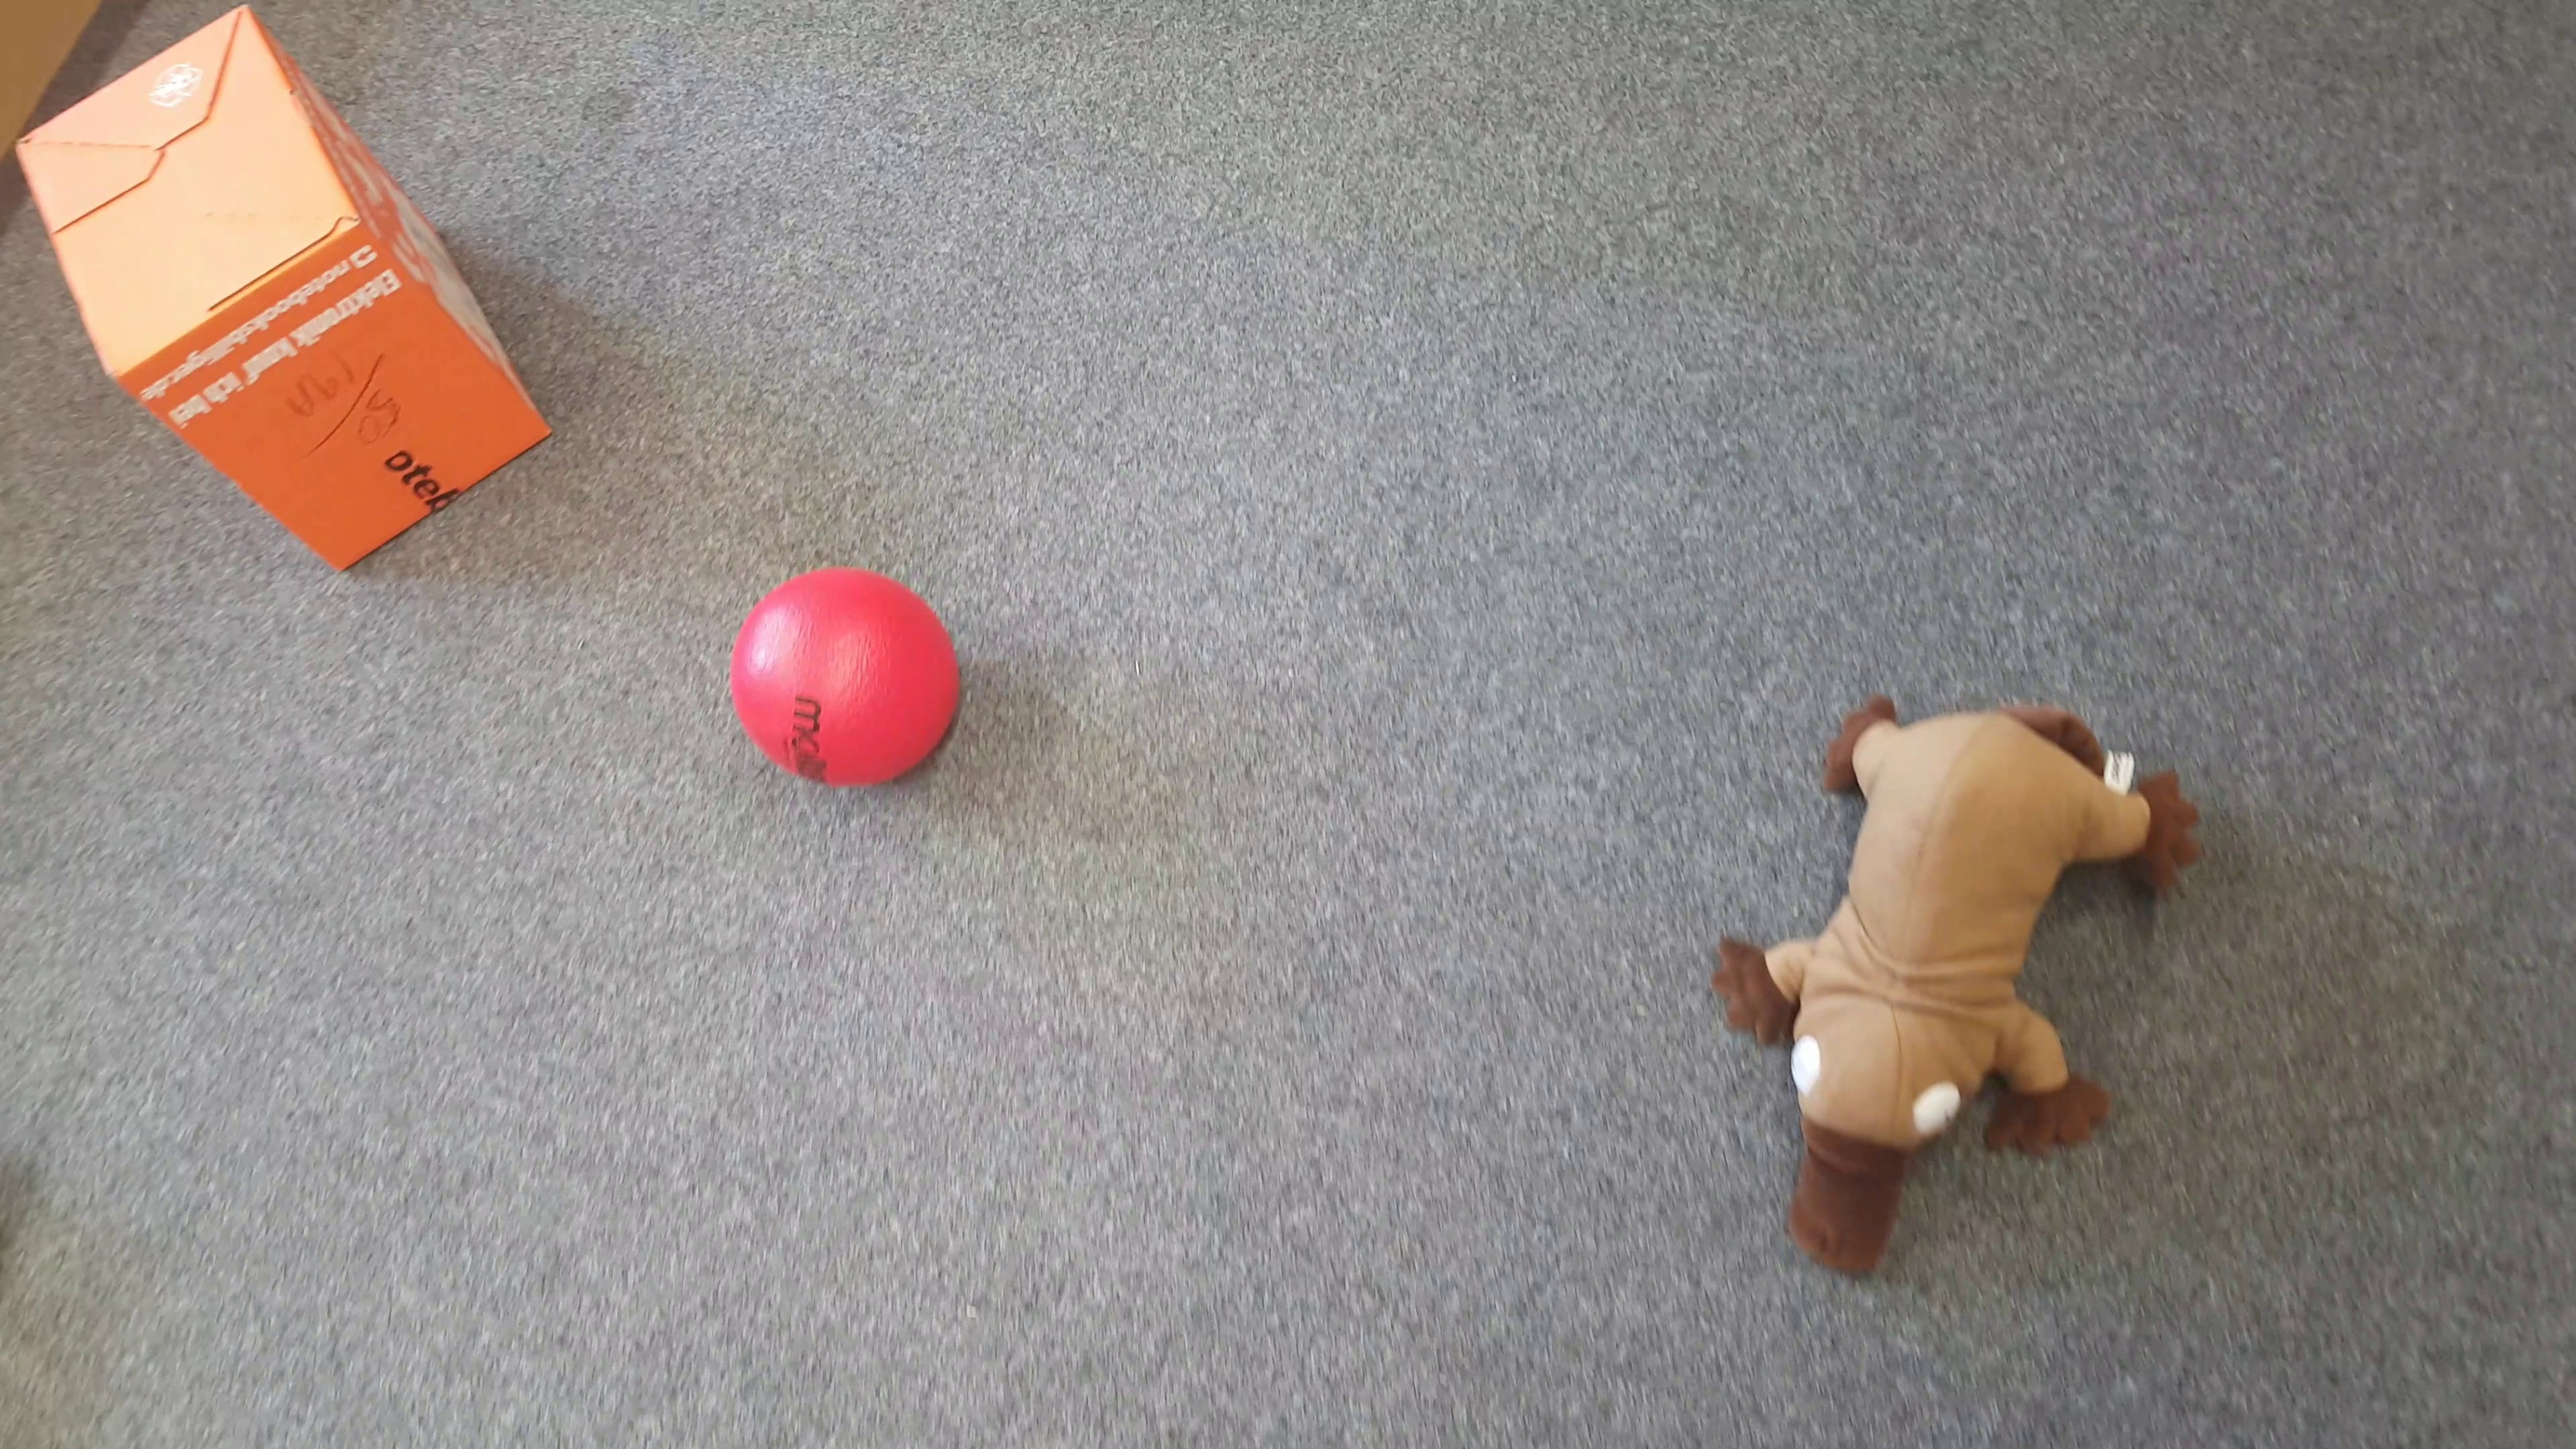grasp: (1709, 699, 2196, 1286)
kick: (732, 561, 970, 796)
push: (16, 12, 557, 570)
